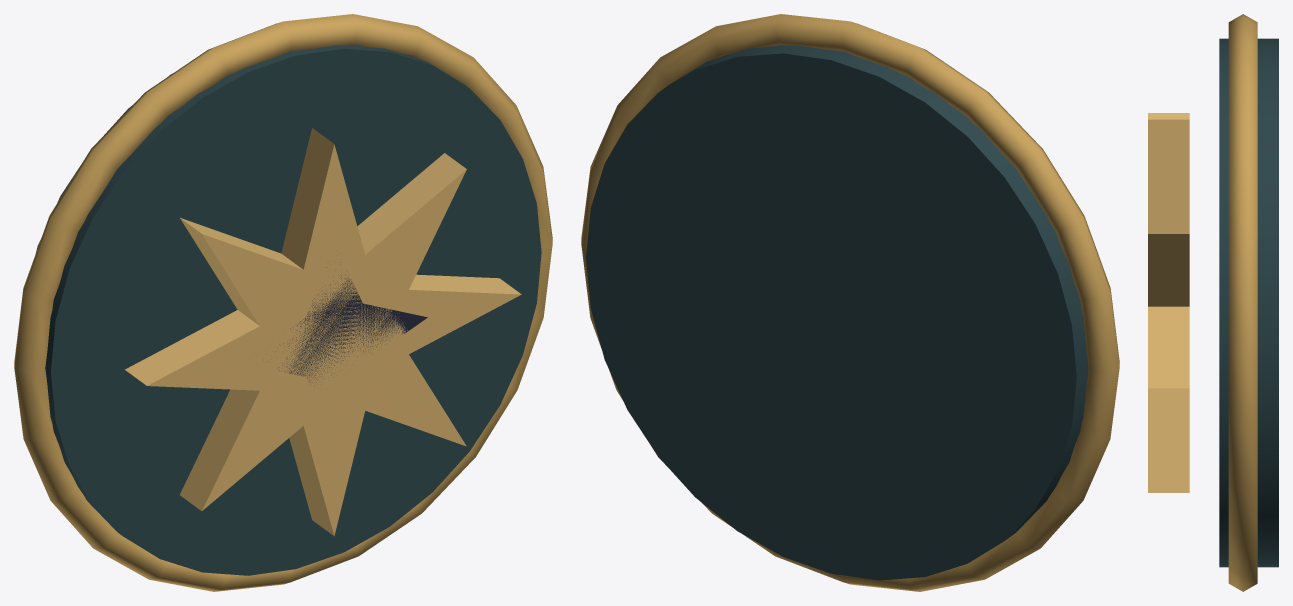
Rendered from ultimate.fbx.
3 views of the same model, side by side, from view 1: azimuth 30°, elevation 25°; view 2: azimuth 150°, elevation 25°; view 3: azimuth 270°, elevation 25° (orthographic). The views are drawn at different scales.
Visible parts, largest first — view 1: ultimate; view 2: ultimate; view 3: ultimate.
Boxes of the visible parts, <box> form: ultimate: <box>14,14,552,591</box>; ultimate: <box>581,14,1119,591</box>; ultimate: <box>1148,14,1278,591</box>.
Bounding box in the file's own units: 0.976 × 0.976 × 0.22.
